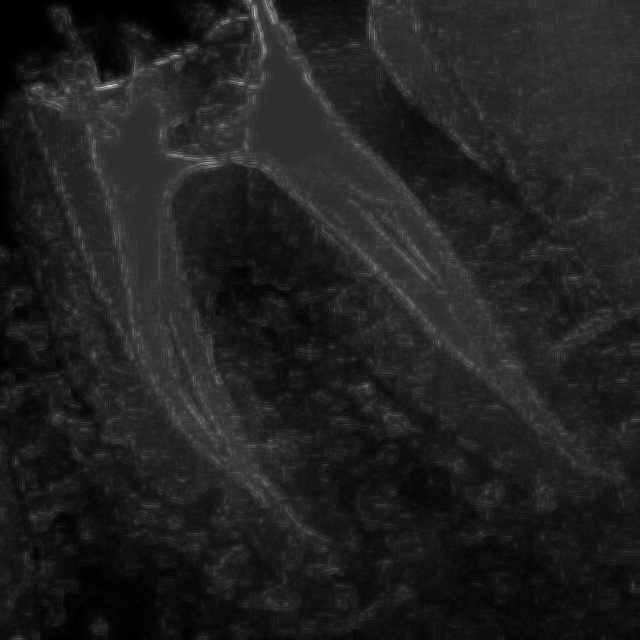Class 0- No endodontic treatment: (7, 27, 640, 582)
